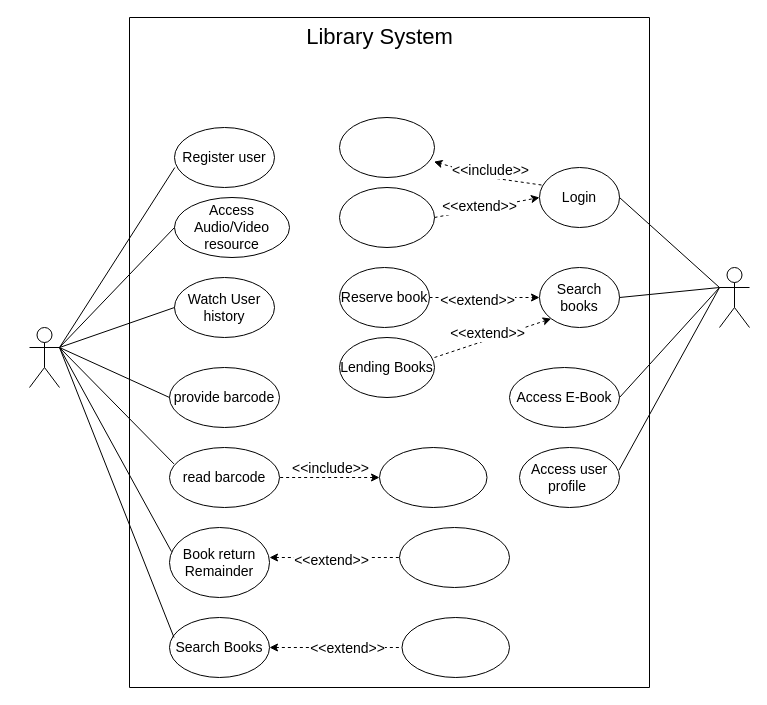
This 767x705 diagram has some shape labels left out. The centre of each missing label's shape, as x and y in pixels:
Librarian: the point at 44,357
Overdue message: the point at 454,557
Purchase books: the point at 455,647
reset password: the point at 386,217
return book: the point at 432,477
User: the point at 734,297
verify passwaord: the point at 386,147
